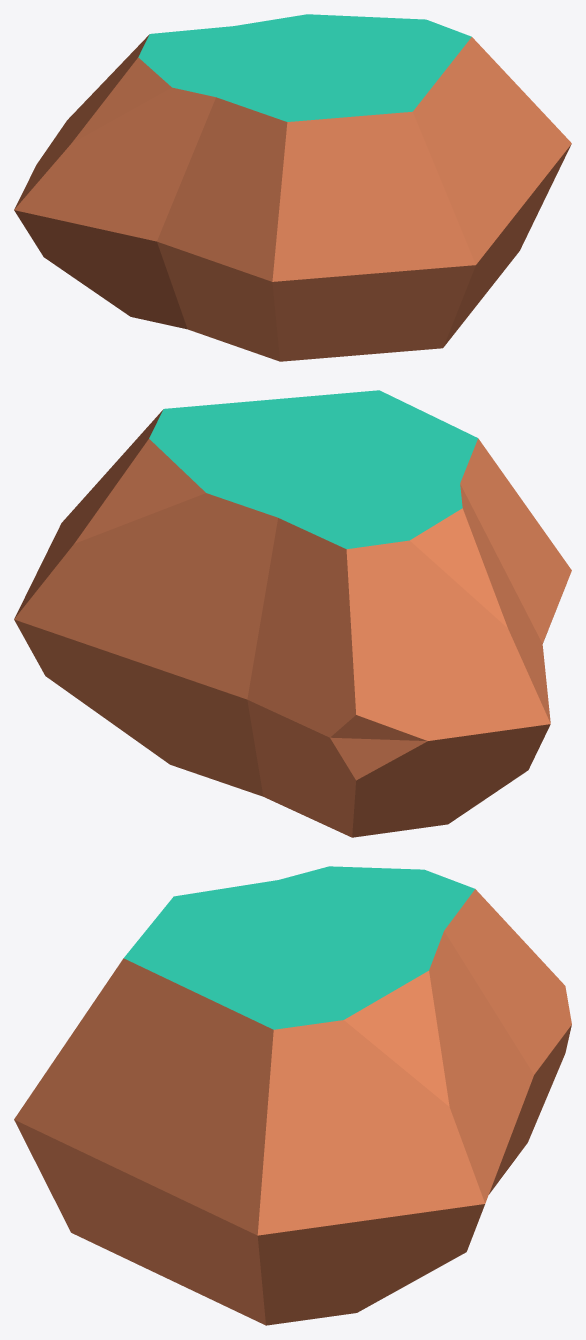
Rendered from rock_largeF.dae.
The picture shows the model from 3 angles, top to bottom: view 1: azimuth 30°, elevation 25°; view 2: azimuth 150°, elevation 25°; view 3: azimuth 270°, elevation 25°; orthographic projection. The views are drawn at different scales.
Parts seen in each view (by area): view 1: rock_largeF; view 2: rock_largeF; view 3: rock_largeF.
Part boxes in pixels (x1=…): rock_largeF: x1=14, y1=14, x2=571, y2=361; rock_largeF: x1=14, y1=390, x2=571, y2=837; rock_largeF: x1=14, y1=866, x2=571, y2=1325.
Bounding box in the file's own units: 1.1 × 0.479 × 0.899.
